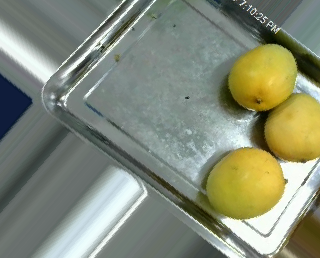Mango: (207, 147, 284, 218), (227, 44, 297, 111), (264, 93, 320, 162)
